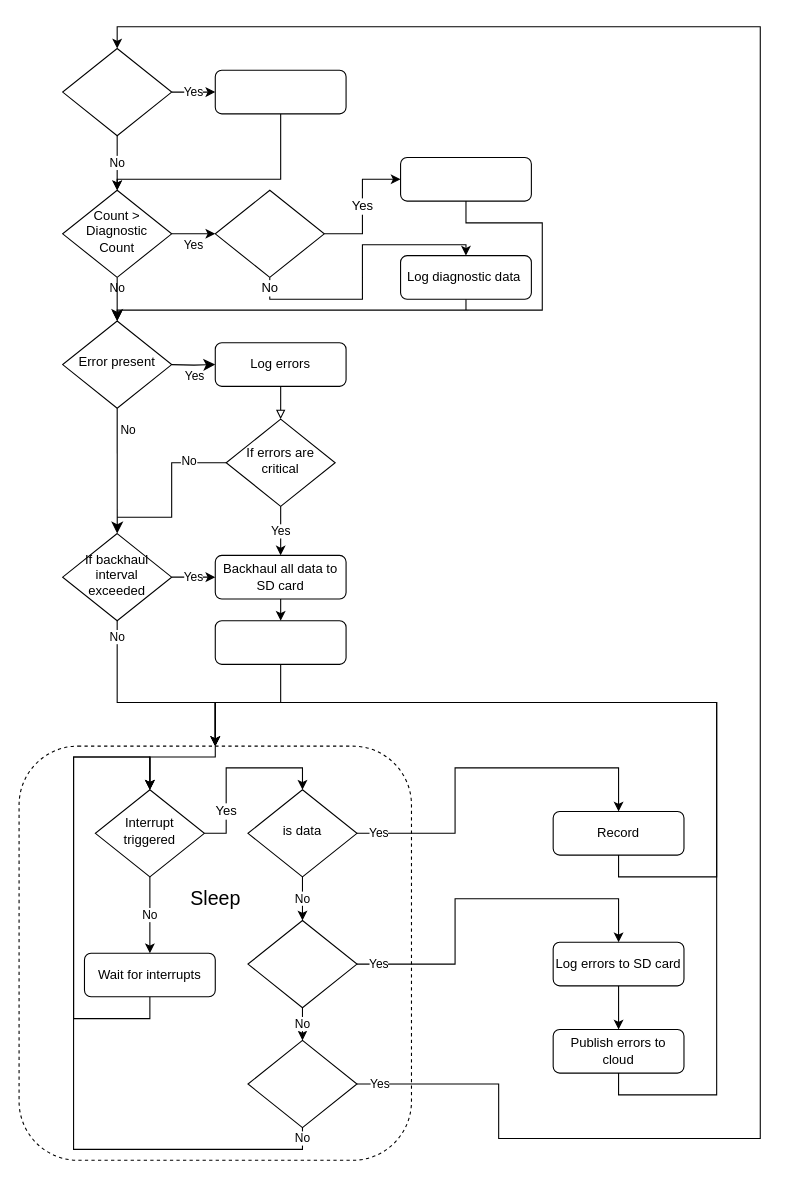
The diagram is 788 pixels wide and 1179 high, and some of its shapes have lost their labels. Here are the shapes that lost their labels. From the top down, the box of each, then its label:
(62, 47, 172, 136): Time > Log Interval
(214, 69, 346, 114): Log sensor data
(399, 156, 531, 201): Log diagnostic data for backhaul
(214, 189, 324, 277): Diagnostic Log Count > Diagnostic Backhaul Count
(214, 620, 346, 664): Backhaul all data to cloud via cell
(247, 919, 357, 1008): is error
(247, 1039, 357, 1128): is clock
